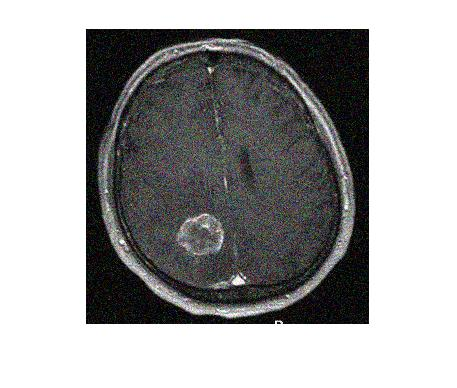Brain_Cancer: (174, 212, 226, 257)
